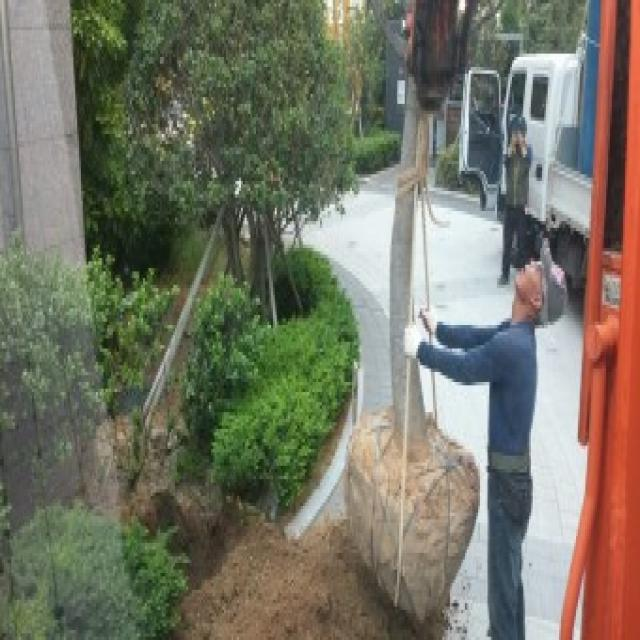plant: (346, 0, 504, 620), (105, 0, 358, 321), (0, 231, 179, 493)
